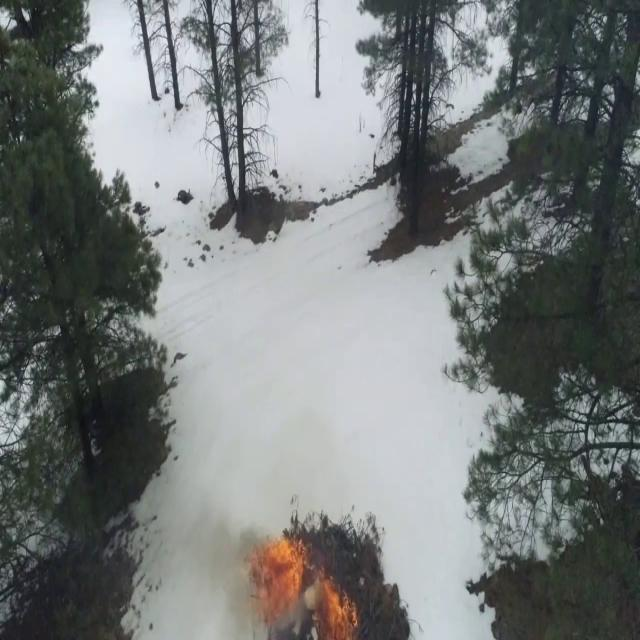fire: (258, 528, 300, 629), (318, 578, 354, 640)
